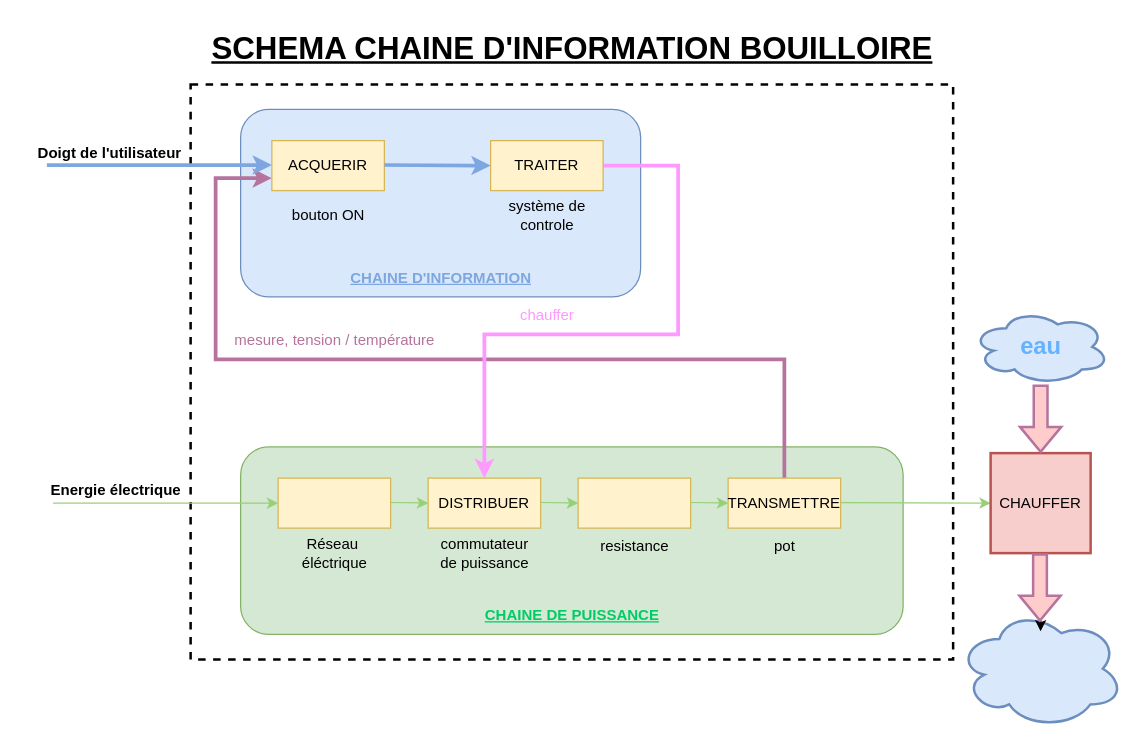
Some shapes in this 1146 by 750 pixel diagram are drawn without their labels. The box of each missing label's shape, as (x1, y1, x2, y2) in pixels:
ALIMENTER: (277, 477, 391, 528)
CONVERTIR: (577, 477, 691, 528)
eau bouillante: (956, 608, 1124, 729)
